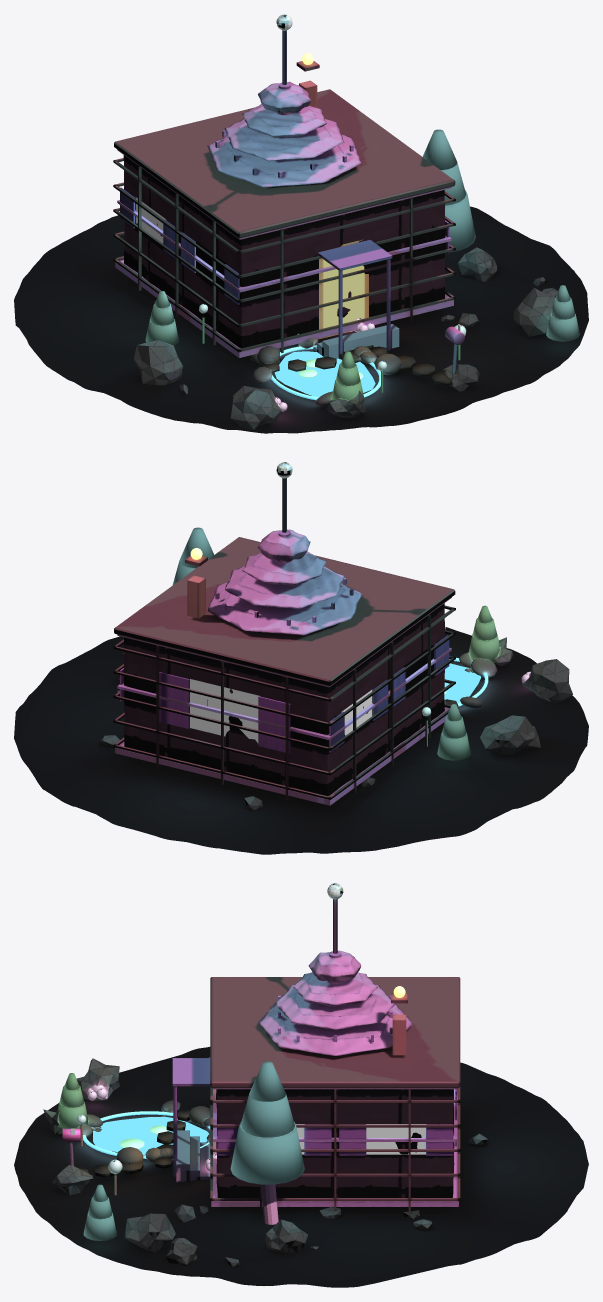
File: landmark-about.glb
3 views of the same model, one above another, from view 1: azimuth 30°, elevation 25°; view 2: azimuth 150°, elevation 25°; view 3: azimuth 270°, elevation 25° (orthographic).
Visible parts, largest first — view 1: house_structural_merged, house_ground_patch, house_walls, house_rocks_merged, house_foliage_merged, house_pond_water, house_props_merged, house_organics_merged; view 2: house_ground_patch, house_structural_merged, house_walls, house_rocks_merged, house_foliage_merged, house_pond_water; view 3: house_ground_patch, house_structural_merged, house_walls, house_rocks_merged, house_foliage_merged, house_pond_water, house_props_merged, house_organics_merged.
Part boxes in pixels (x1,y1,x2,y2): house_structural_merged: (113,14,455,359); house_ground_patch: (14,206,588,433); house_walls: (123,155,445,348); house_rocks_merged: (133,247,557,429); house_foliage_merged: (145,129,579,402); house_pond_water: (274,351,375,397); house_props_merged: (313,324,464,374); house_organics_merged: (199,304,466,411); house_ground_patch: (14,627,588,854); house_structural_merged: (113,462,455,805); house_walls: (124,603,444,796); house_rocks_merged: (100,637,572,809); house_foliage_merged: (172,527,499,760); house_pond_water: (444,663,481,703); house_ground_patch: (14,1047,588,1287); house_structural_merged: (172,883,460,1212); house_walls: (216,1089,454,1197); house_rocks_merged: (43,1057,488,1266); house_foliage_merged: (57,1061,304,1240); house_pond_water: (93,1116,208,1154); house_props_merged: (62,1128,210,1182); house_organics_merged: (77,1085,278,1224).
Bounding box in the file's own units: 17 × 11.09 × 17.
12 materials, 7 textured.
